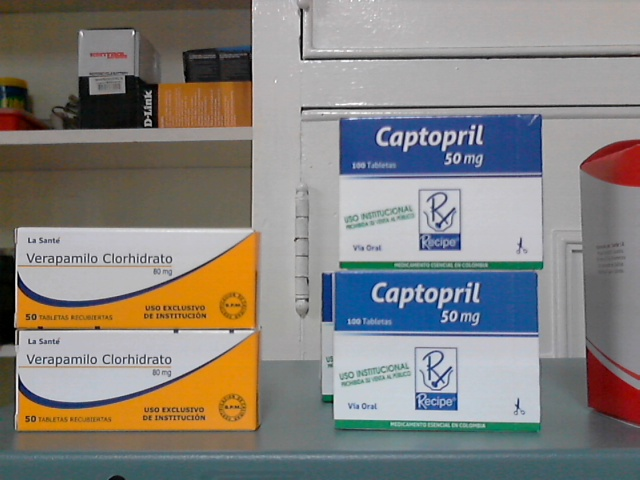LaSante: (17, 229, 255, 328), (20, 331, 257, 429)
